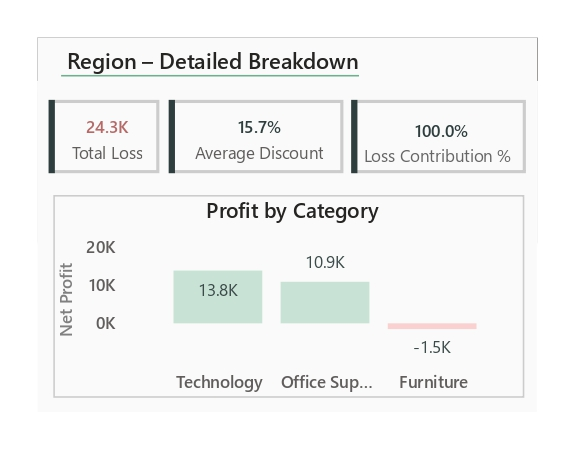

The dashboard page shown, as its layout file describes it:
{"tool":"powerbi","page":{"name":"Tooltip","canvas":[320,240],"ordinal":3},"visuals":[{"type":"cardVisual","fields":{"Data":["superstore.Loss Contribution %"]},"box":[194,33,126,61],"z":0},{"type":"columnChart","title":"Profit by Category","fields":{"Category":["superstore.Category"],"Y":["Sum(superstore.Profit)"]},"box":[10,101,302,130],"z":1000},{"type":"textbox","box":[10,0,302,33],"z":2000},{"type":"cardVisual","fields":{"Data":["superstore.Average Discount"]},"box":[76.5,33,126,61],"z":3000},{"type":"cardVisual","fields":{"Data":["superstore.Total Loss ABS"]},"box":[0,33,85,61],"z":4000},{"type":"textbox","box":[204,61,116,33],"z":5000}]}

Visuals, with their boxes on the page's 320x240 design canvas (x1, y1, x2, y2). These are canvas units, not pixel positions in the 575x450 screenshot, which may show the page scaled, cropped or inside an application window:
cardVisual - superstore.Loss Contribution %: l=194, t=33, r=320, b=94
"Profit by Category" columnChart: l=10, t=101, r=312, b=231
textbox: l=10, t=0, r=312, b=33
cardVisual - superstore.Average Discount: l=76, t=33, r=202, b=94
cardVisual - superstore.Total Loss ABS: l=0, t=33, r=85, b=94
textbox: l=204, t=61, r=320, b=94
